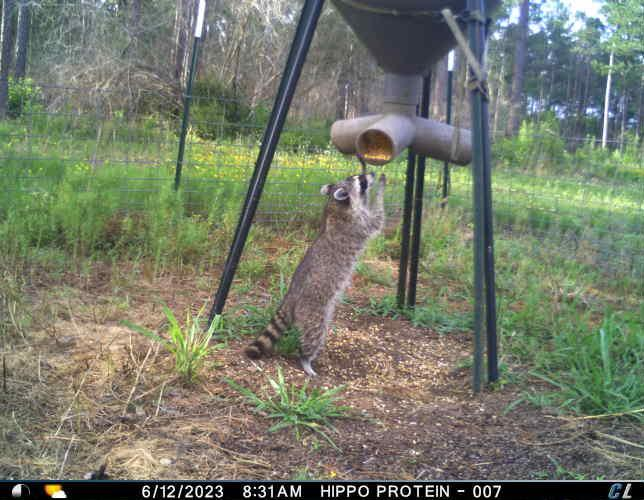Raccoon: (239, 169, 390, 378)
